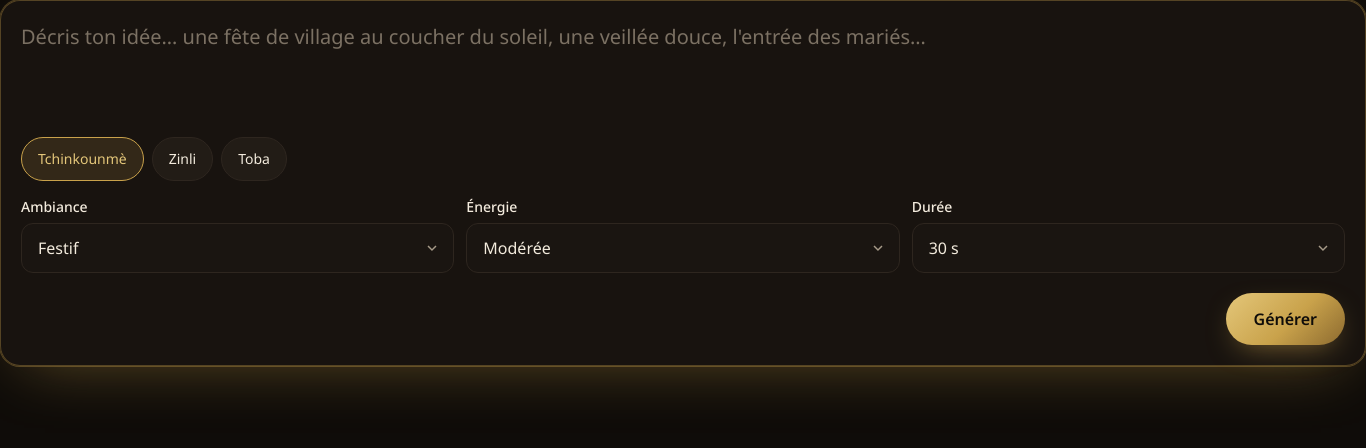
CreationBox — signed in › explains a 503 in plain French
Replace the text in the text box labelled "Décris ton idée" with "une fête" at [683, 70], box [21,21,1345,118]
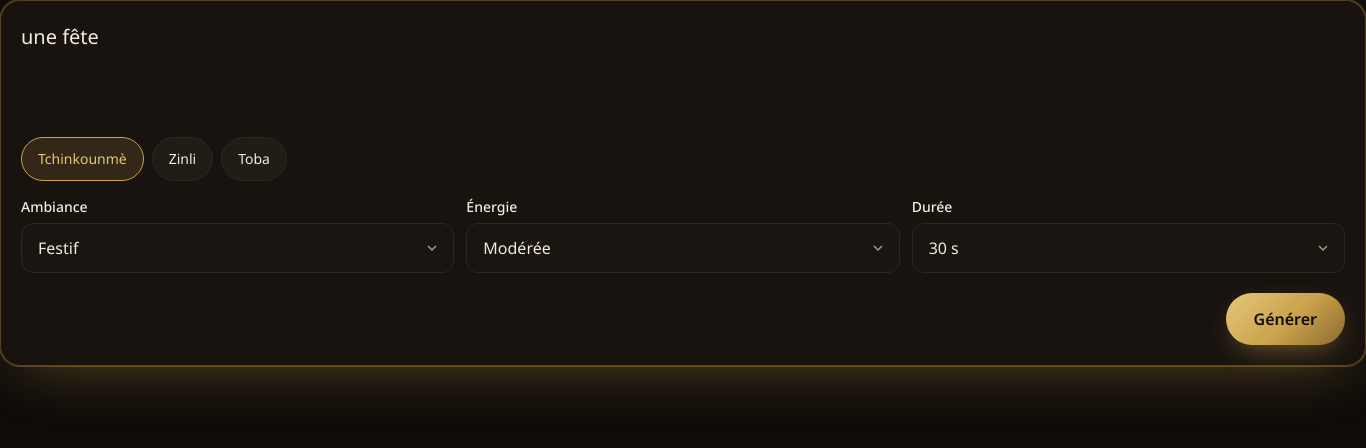
Click the button "Générer" at [1285, 318], box [1226,292,1345,344]
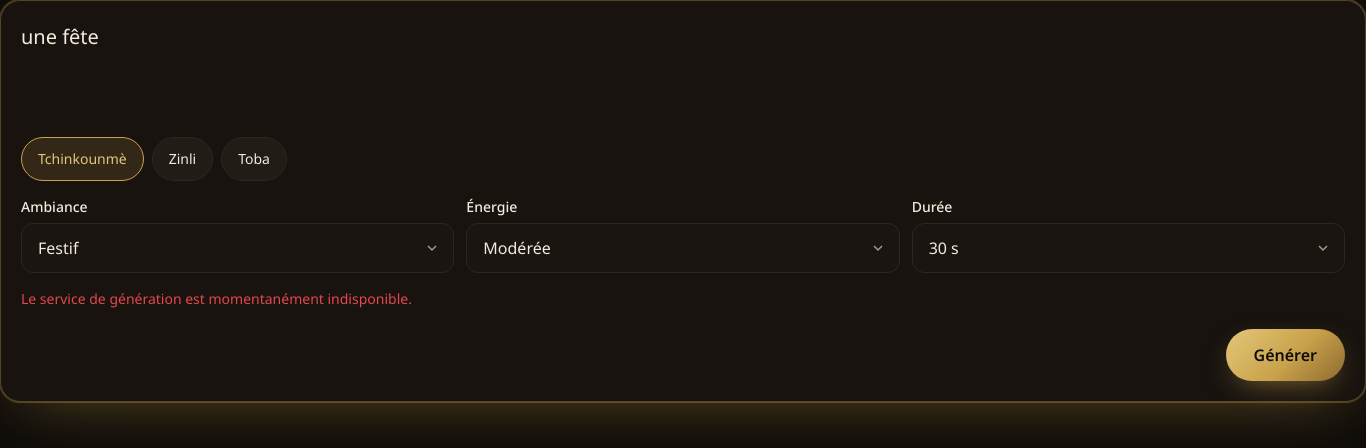
Expected: the button "Générer" is enabled, [1226,328,1345,380]
Now the message reads "Le service de génération est momentanément indisponible.", box [21,288,412,308]
